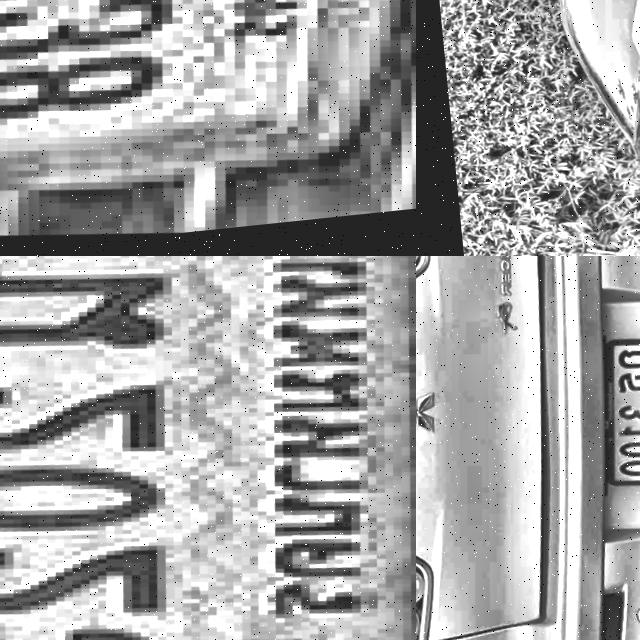license-plate: (0, 256, 416, 640), (0, 0, 416, 256), (579, 340, 640, 505)
